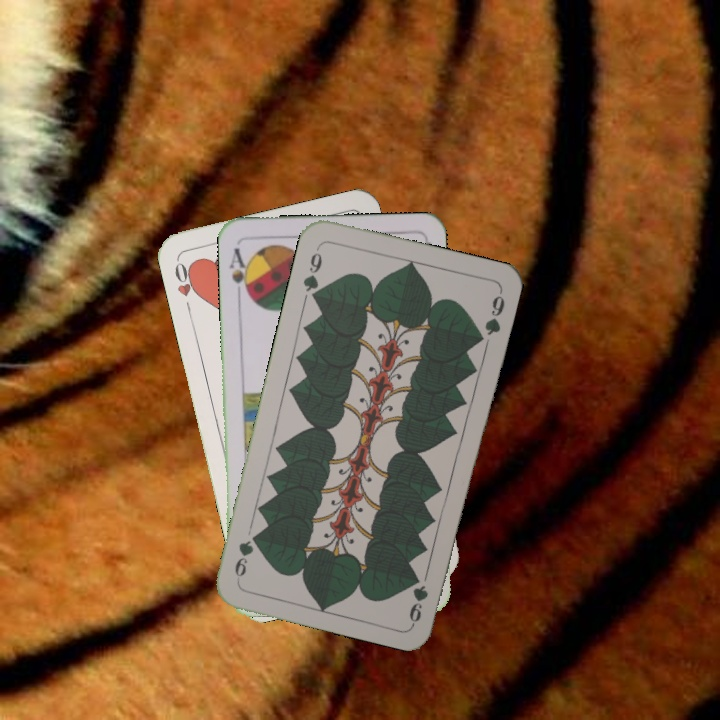G9: (299, 242, 325, 303), (405, 581, 431, 626)
HO: (170, 257, 201, 315)
SA: (225, 244, 253, 301)
